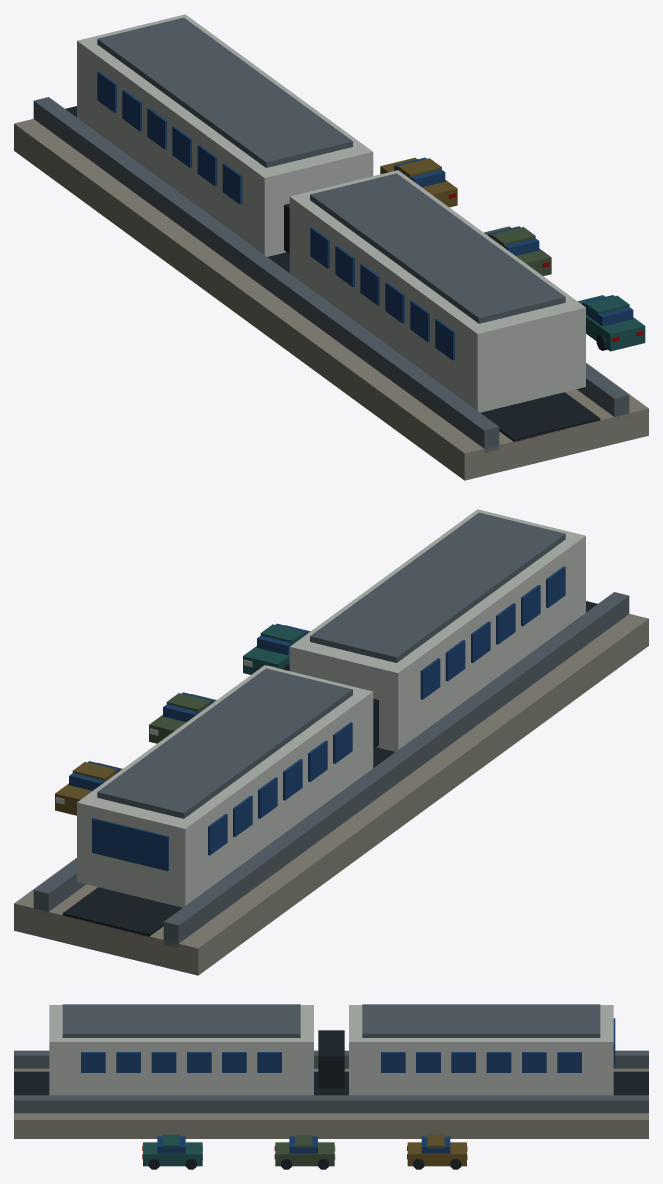
Rendered from maglevtrain4.glb.
3 views of the same model, one above another, from view 1: azimuth 30°, elevation 25°; view 2: azimuth 150°, elevation 25°; view 3: azimuth 270°, elevation 25° (orthographic). The views are drawn at different scales.
Visible parts, largest first — view 1: maglevtrain4; view 2: maglevtrain4; view 3: maglevtrain4.
Part boxes in pixels (<box>): maglevtrain4: <box>14,14,648,480</box>; maglevtrain4: <box>14,509,648,975</box>; maglevtrain4: <box>14,1004,648,1169</box>.
Size of the model in its own units: 25.3 by 11.05 by 72.
